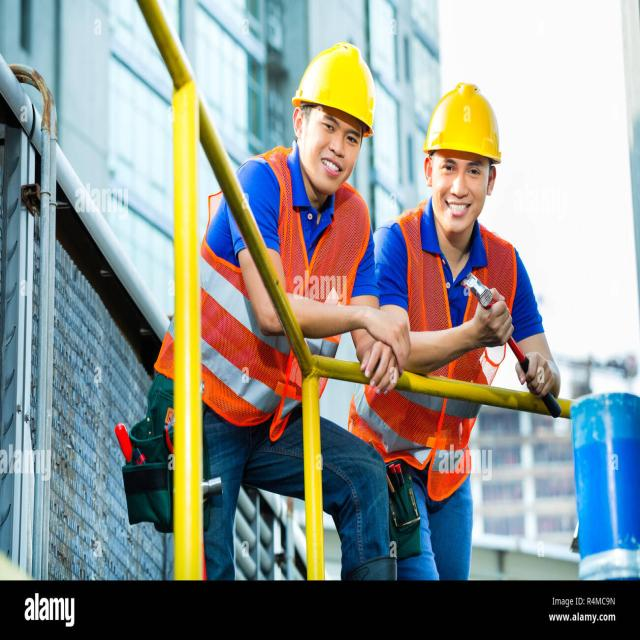helmet: (294, 38, 378, 139), (424, 81, 504, 165)
vest: (156, 140, 368, 430), (352, 200, 518, 502)
